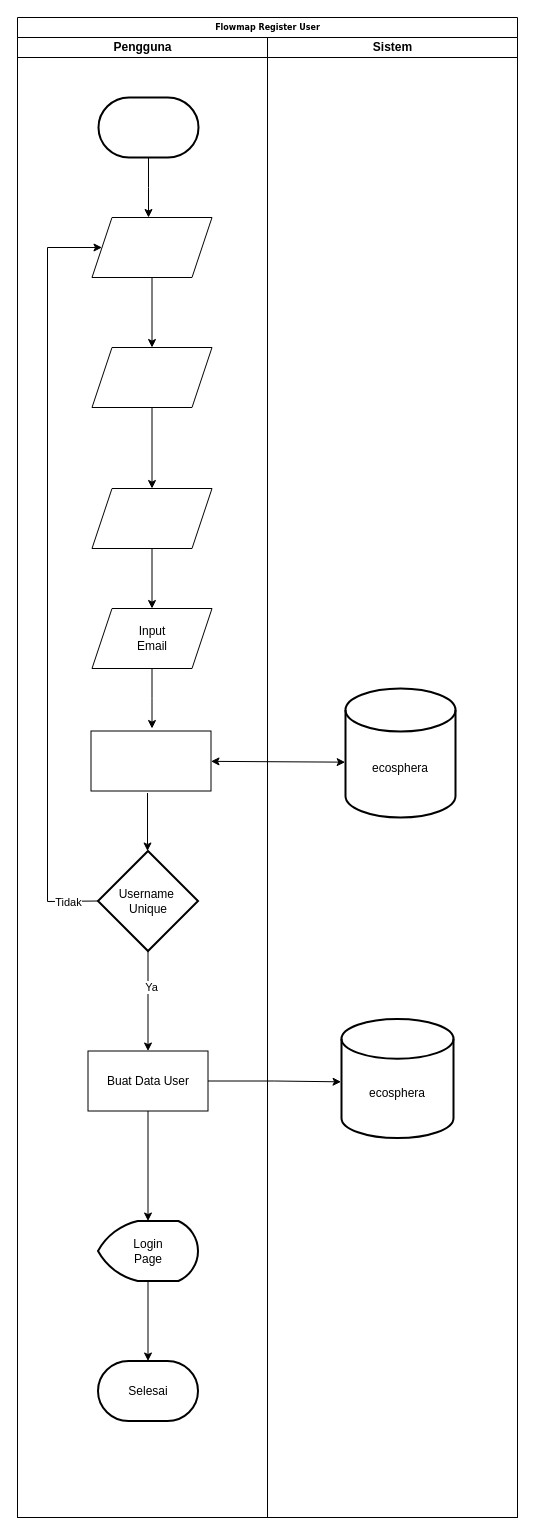
Image size: 535x1535. Some labels were removed from this diagram. Here are the shapes that lost their labels. From the top down, the centre of each, then its label:
the point at 148,127: Mulai
the point at 151,247: Input Username
the point at 151,377: Input Password
the point at 151,518: Input Nama Pengguna
the point at 150,760: Verifikasi Username Unique
